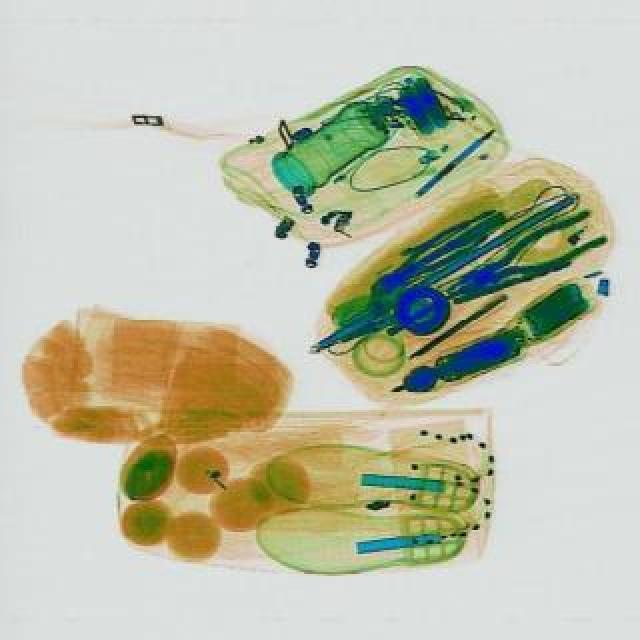wrench: (436, 204, 608, 316), (360, 212, 490, 304)
